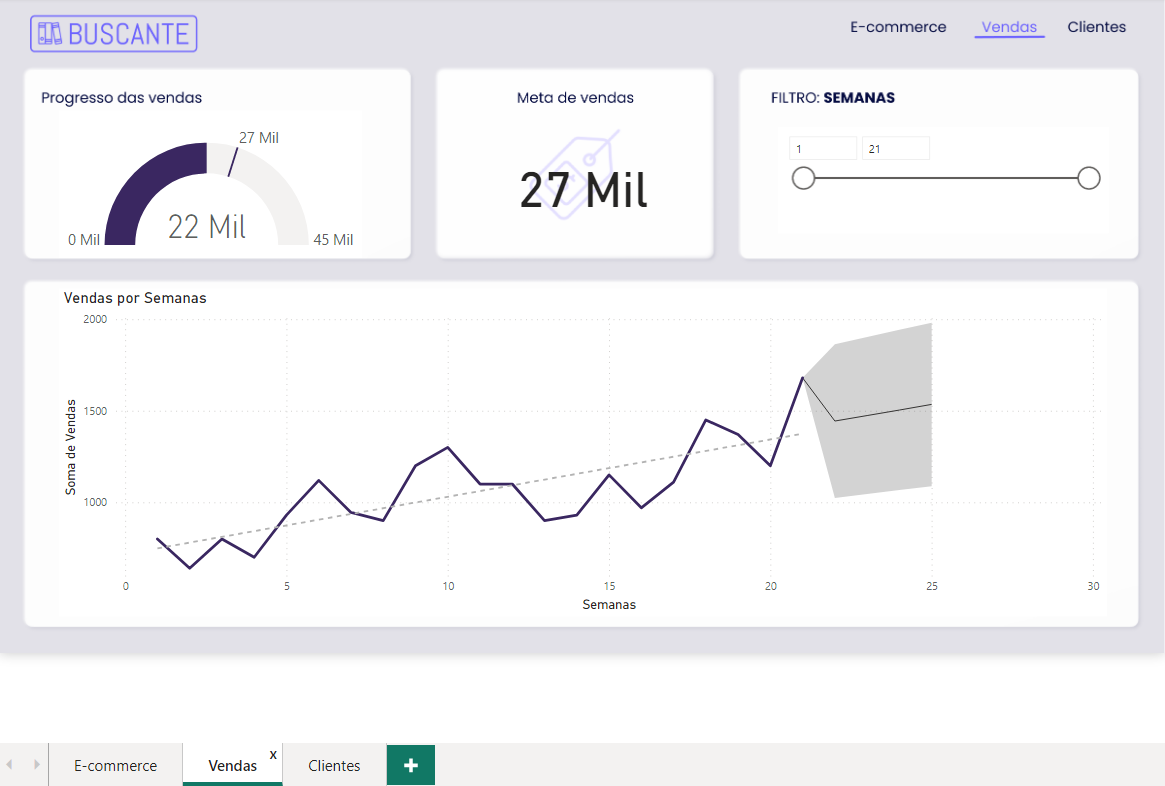

This screenshot's page, from the dashboard's own definition file:
{"tool":"powerbi","page":{"name":"Vendas","canvas":[1280,720],"ordinal":1},"visuals":[{"type":"gauge","fields":{"Y":["Sum(Vendas por semana.Vendas)"],"TargetValue":["Sum(Vendas por semana.Meta de vendas)"]},"box":[65.7,124.3,332.9,161.4],"z":0},{"type":"card","fields":{"Values":["Sum(Vendas por semana.Meta de vendas)"]},"box":[510,142.9,261.4,124.3],"z":1000},{"type":"slicer","fields":{"Values":["Vendas por semana.Semanas"]},"box":[854.3,142.9,362.9,117.1],"z":2000},{"type":"lineChart","title":"Vendas por Semanas","fields":{"Y":["Sum(Vendas por semana.Vendas)"],"Category":["Vendas por semana.Semanas"]},"box":[66,320,1150,360],"z":3000},{"type":"actionButton","box":[1157.1,15.7,92.9,40],"z":4000},{"type":"actionButton","box":[927.1,15.7,120,40],"z":5000}]}

Visuals, with their boxes on the page's 1280x720 design canvas (x1, y1, x2, y2). These are canvas units, not pixel positions in the 1165x786 screenshot, which may show the page scaled, cropped or inside an application window:
gauge - Sum(Vendas por semana.Vendas) x Sum(Vendas por semana.Meta de vendas): [66, 124, 399, 286]
card - Sum(Vendas por semana.Meta de vendas): [510, 143, 771, 267]
slicer - Vendas por semana.Semanas: [854, 143, 1217, 260]
"Vendas por Semanas" lineChart: [66, 320, 1216, 680]
actionButton: [1157, 16, 1250, 56]
actionButton: [927, 16, 1047, 56]
